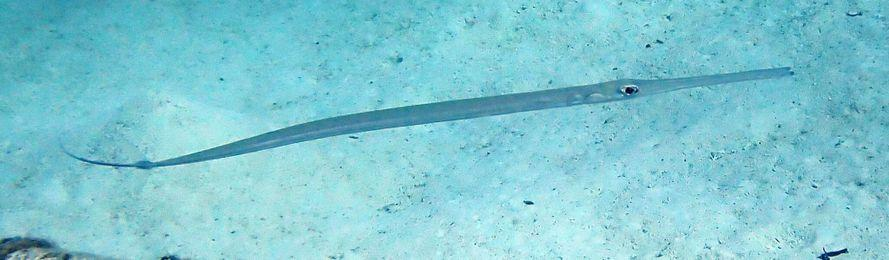Fistularia commersonii: (60, 64, 796, 171)
